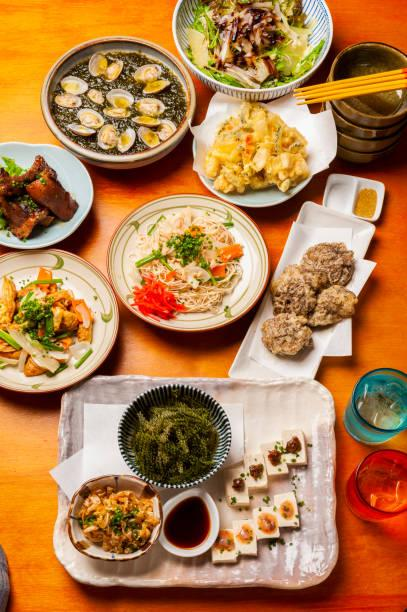Braised Crucian Carp: (106, 194, 268, 331), (236, 213, 373, 371), (40, 35, 194, 168), (0, 249, 120, 391), (171, 0, 332, 102), (194, 101, 317, 209), (116, 383, 231, 487), (0, 142, 94, 248), (67, 473, 160, 562)
